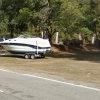Boat: (1, 29, 66, 61)
